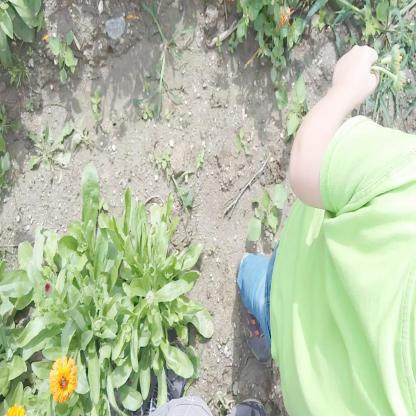marigold: (49, 354, 78, 403)
